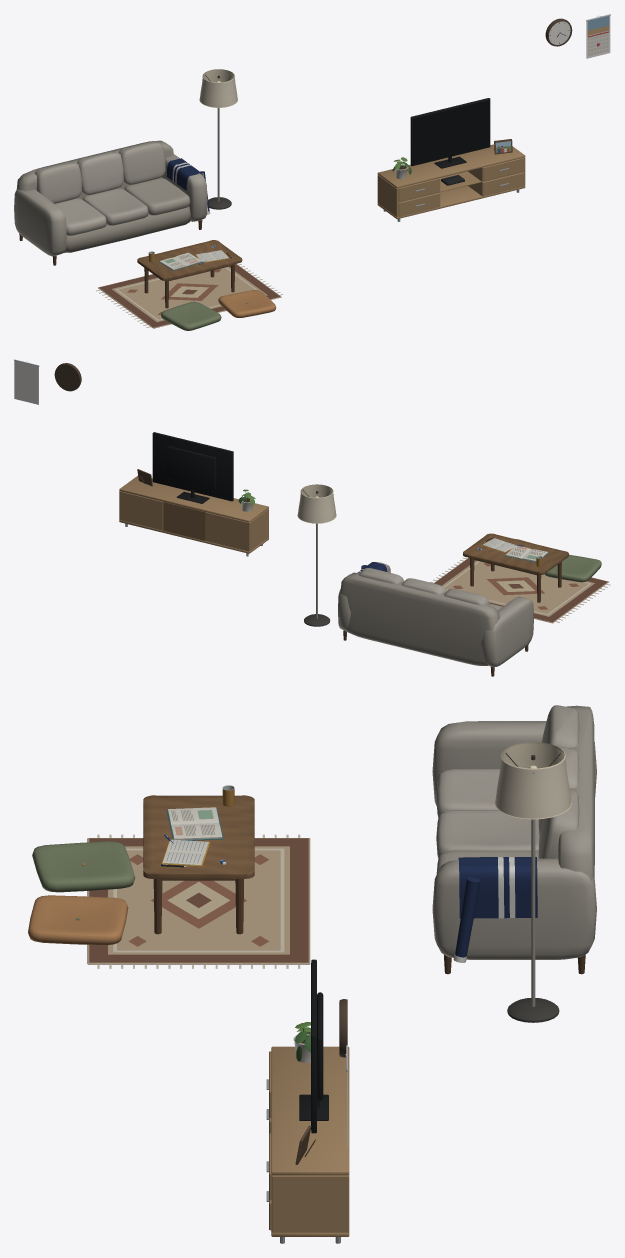
File: tutor_props.glb
The picture shows the model from 3 angles, top to bottom: view 1: azimuth 30°, elevation 25°; view 2: azimuth 150°, elevation 25°; view 3: azimuth 270°, elevation 25°; orthographic projection. The views are drawn at different scales.
Parts seen in each view (by area): view 1: tutor_sofa_vc, tutor_tvstand_vc, tutor_rug_vc, tutor_tvstand_metal, tutor_cushions_vc, tutor_table_vc, tutor_wall_vc, tutor_lamp_vc, tutor_study_vc, tutor_lamp_metal; view 2: tutor_sofa_vc, tutor_tvstand_vc, tutor_rug_vc, tutor_tvstand_metal, tutor_table_vc, tutor_wall_vc, tutor_lamp_vc, tutor_cushions_vc, tutor_study_vc, tutor_lamp_metal; view 3: tutor_sofa_vc, tutor_rug_vc, tutor_tvstand_vc, tutor_cushions_vc, tutor_table_vc, tutor_lamp_vc, tutor_study_vc, tutor_tvstand_metal, tutor_lamp_metal, TUTOR_LAMP_GLOW.
Boxes of the visible parts, left/top/right/bottom form: tutor_sofa_vc: left=14, top=140, right=210, bottom=265; tutor_tvstand_vc: left=377, top=139, right=525, bottom=219; tutor_rug_vc: left=96, top=264, right=282, bottom=328; tutor_tvstand_metal: left=383, top=98, right=519, bottom=221; tutor_cushions_vc: left=161, top=290, right=276, bottom=330; tutor_table_vc: left=137, top=240, right=242, bottom=308; tutor_wall_vc: left=545, top=16, right=610, bottom=58; tutor_lamp_vc: left=199, top=69, right=237, bottom=107; tutor_study_vc: left=148, top=245, right=231, bottom=270; tutor_lamp_metal: left=205, top=74, right=232, bottom=209; tutor_sofa_vc: left=338, top=562, right=533, bottom=676; tutor_tvstand_vc: left=119, top=469, right=268, bottom=553; tutor_rug_vc: left=430, top=557, right=610, bottom=623; tutor_tvstand_metal: left=125, top=432, right=262, bottom=556; tutor_table_vc: left=463, top=533, right=568, bottom=602; tutor_wall_vc: left=14, top=361, right=81, bottom=404; tutor_lamp_vc: left=297, top=484, right=336, bottom=523; tutor_cushions_vc: left=515, top=539, right=601, bottom=582; tutor_study_vc: left=477, top=537, right=548, bottom=566; tutor_lamp_metal: left=303, top=490, right=330, bottom=626; tutor_sofa_vc: left=432, top=705, right=596, bottom=974; tutor_rug_vc: left=87, top=834, right=310, bottom=968; tutor_tvstand_vc: left=269, top=1022, right=349, bottom=1236; tutor_cushions_vc: left=28, top=841, right=135, bottom=945; tutor_table_vc: left=143, top=795, right=254, bottom=934; tutor_lamp_vc: left=494, top=742, right=571, bottom=819; tutor_study_vc: left=161, top=785, right=234, bottom=867; tutor_tvstand_metal: left=266, top=959, right=340, bottom=1243; tutor_lamp_metal: left=505, top=753, right=560, bottom=1022; TUTOR_LAMP_GLOW: left=502, top=743, right=564, bottom=768.
Size of the model in its own units: 6.67 by 1.76 by 3.06.
